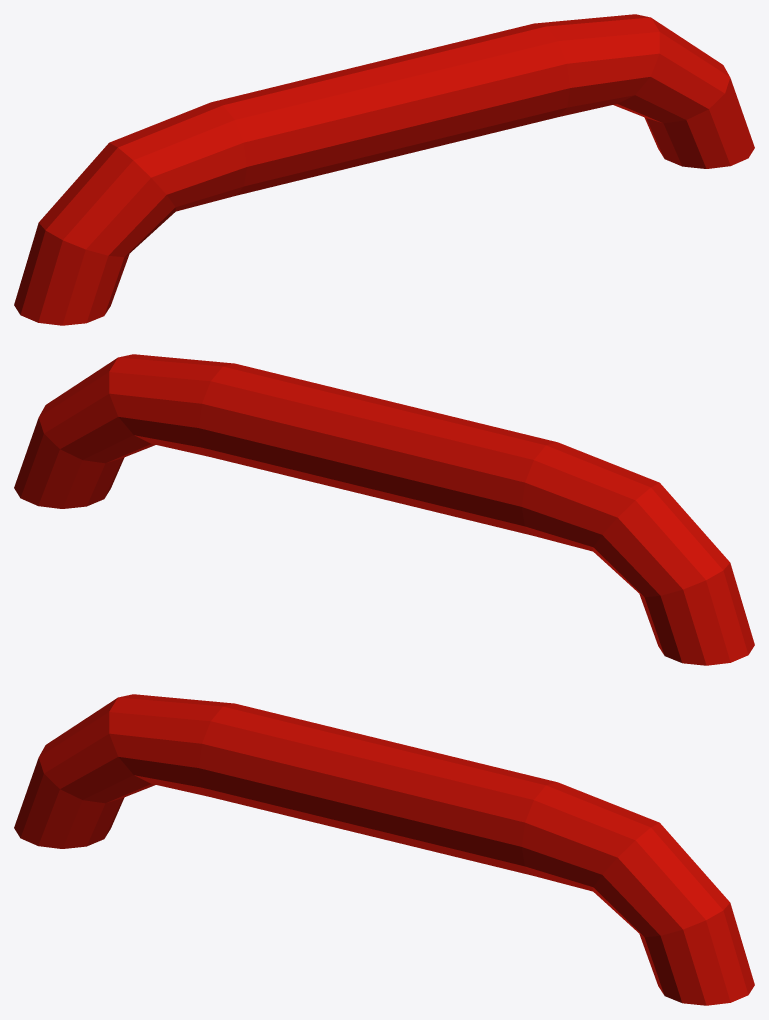
File: RedWire.fbx
3 views of the same model, one above another, from view 1: azimuth 30°, elevation 25°; view 2: azimuth 150°, elevation 25°; view 3: azimuth 330°, elevation 25° (orthographic).
Parts seen in each view (by area): view 1: Cylinder; view 2: Cylinder; view 3: Cylinder.
Boxes of the visible parts, bbox=[...] form: Cylinder: bbox=[14, 14, 754, 325]; Cylinder: bbox=[14, 354, 754, 665]; Cylinder: bbox=[14, 694, 754, 1005].
Bounding box in the file's own units: 1737 × 368 × 200.
